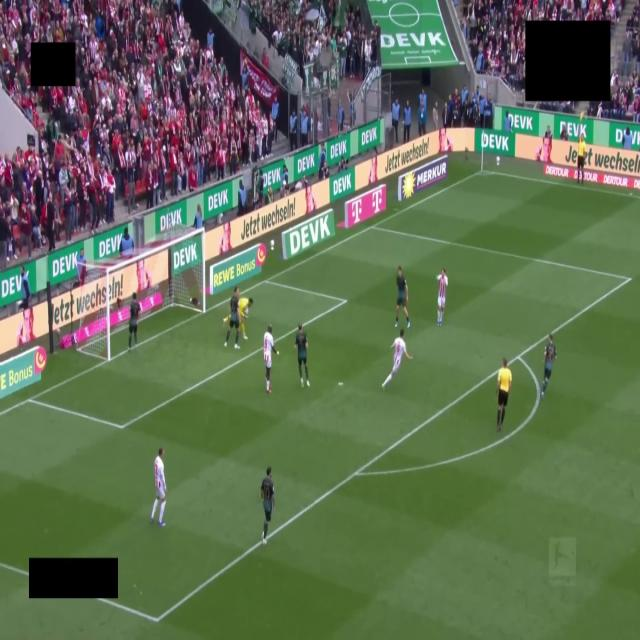player: (382, 329, 412, 390), (151, 448, 166, 527), (294, 324, 310, 388), (261, 467, 274, 544), (541, 334, 556, 398), (263, 325, 277, 393), (395, 266, 410, 327), (225, 287, 239, 349), (128, 293, 141, 350), (239, 297, 253, 339), (437, 268, 447, 326)
referee: (497, 359, 511, 431)
